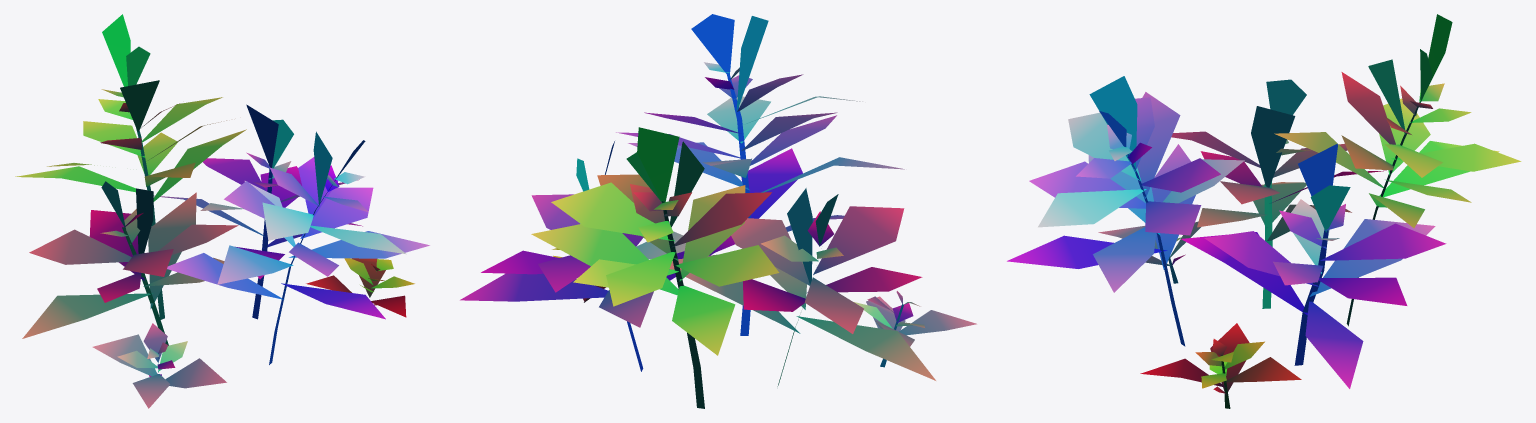
File: xefmcgrqx_VarG_LOD2.fbx
3 renders of one model, left to right at view 1: azimuth 30°, elevation 25°; view 2: azimuth 150°, elevation 25°; view 3: azimuth 270°, elevation 25°, orthographic. The views are drawn at different scales.
Visible parts, largest first — view 1: _lgxd_VarG_LOD5; view 2: _lgxd_VarG_LOD5; view 3: _lgxd_VarG_LOD5.
Part boxes in pixels (box(x1,y1,x2,y2)): _lgxd_VarG_LOD5: box(15, 14, 429, 408); _lgxd_VarG_LOD5: box(460, 14, 976, 408); _lgxd_VarG_LOD5: box(1007, 14, 1521, 408).
Bounding box in the file's own units: 74.19 × 51.68 × 78.17.
